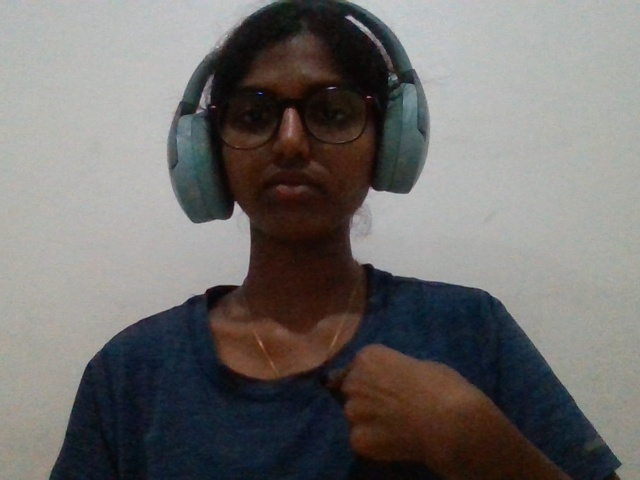Me: (288, 306, 552, 480)
